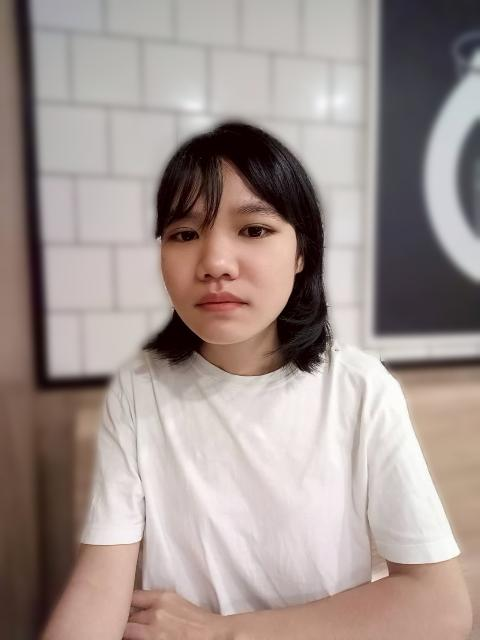fokus: (158, 150, 304, 347)
